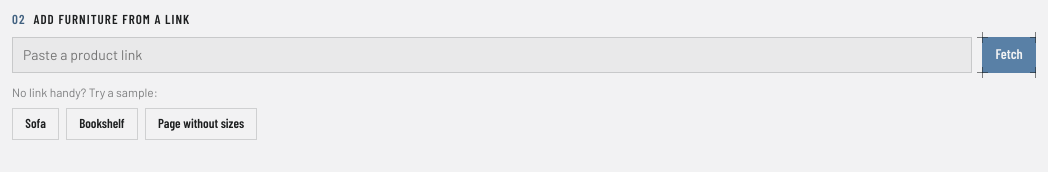
Test: AddFurnitureSection › starts a lookup from the Sofa sample and shows the loading card
This screenshot has width=1048, height=172.
What coordinates should you click on to do the following:
click the button "Sofa"
I would click on:
 (36, 124)
Its box is [12,108,59,140].
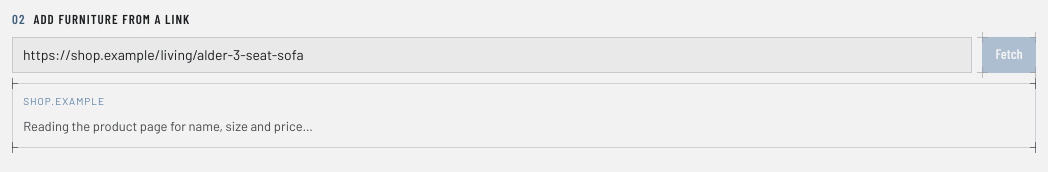
Check: the button "Fetch" is disabled, box [982,37,1036,73]
Check: the button "Bookshelf" is gone
Check: the text "No link handy? Try a sample:" is gone
